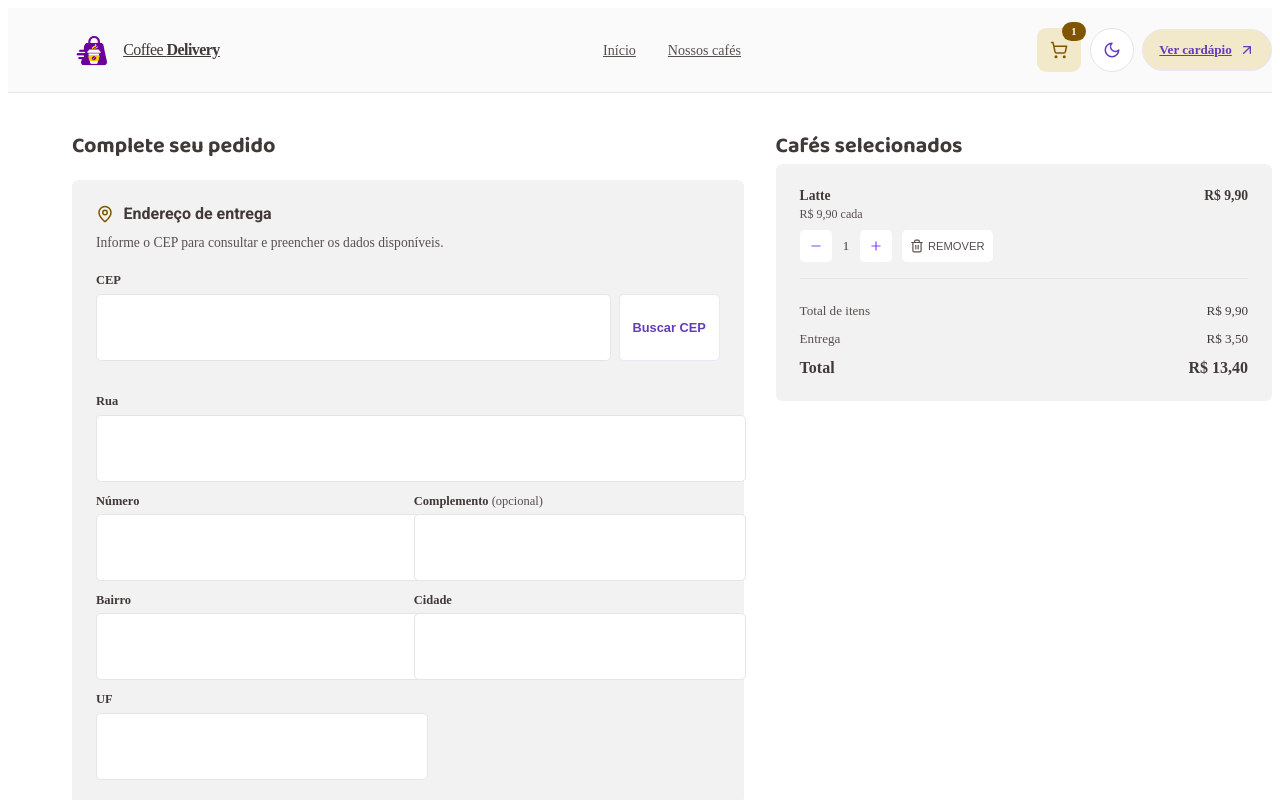
Test: CheckoutPage › shows invalid and not-found CEP feedback and permits a new query
Type "123" into the field labelled "CEP" at (353, 327), box [96,294,611,361]
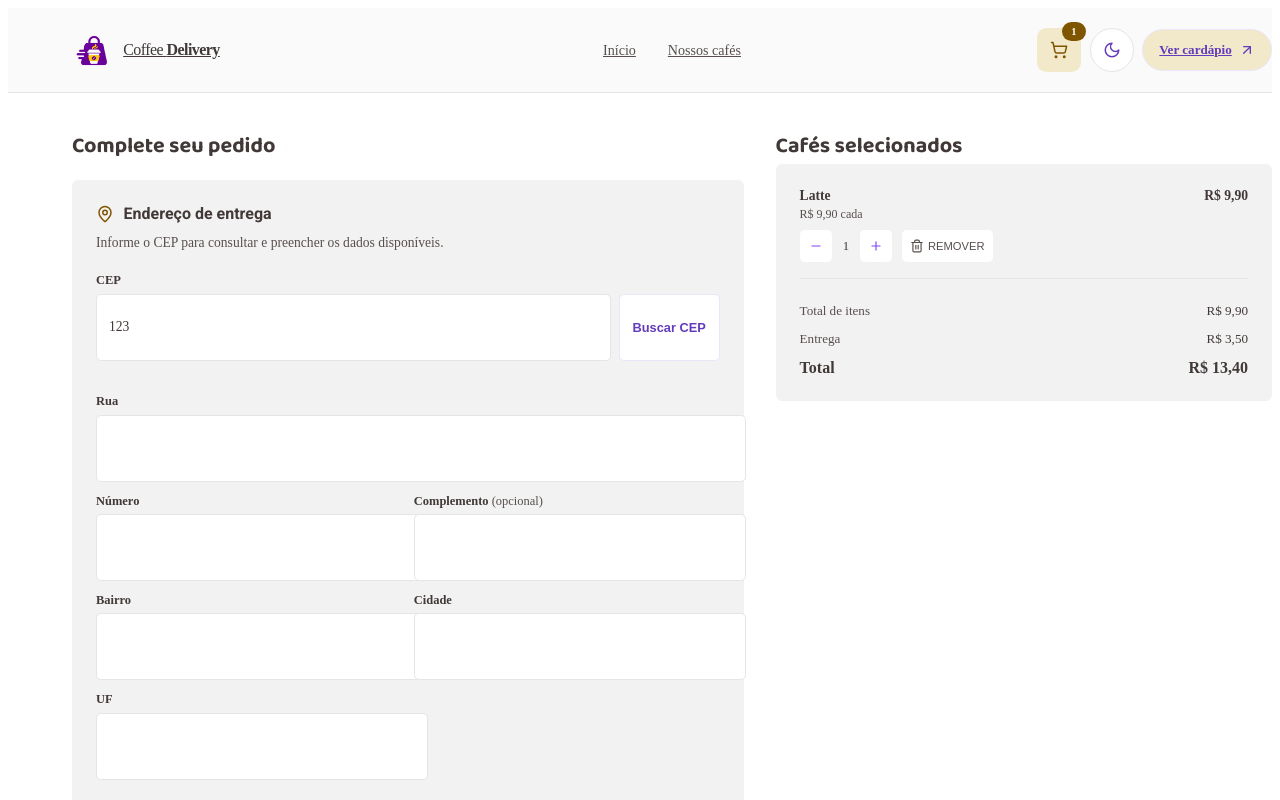
Click the button "Buscar CEP" at (669, 327), box [619,294,720,361]
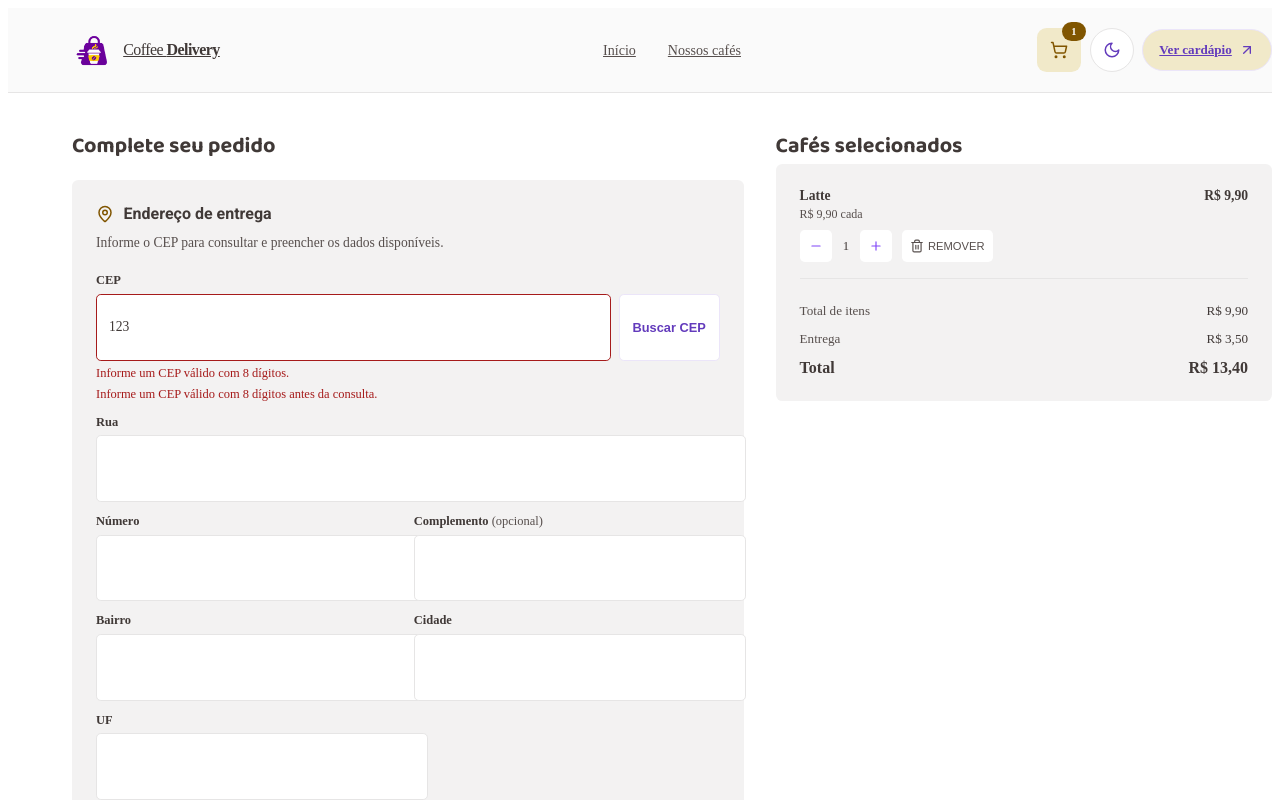
expect the text "Informe um CEP válido com 8 dígitos antes da consulta." is shown: met, box [96,387,377,401]
Replace the text in the field labelled "CEP" with "99999999" at (353, 327), box [96,294,611,361]
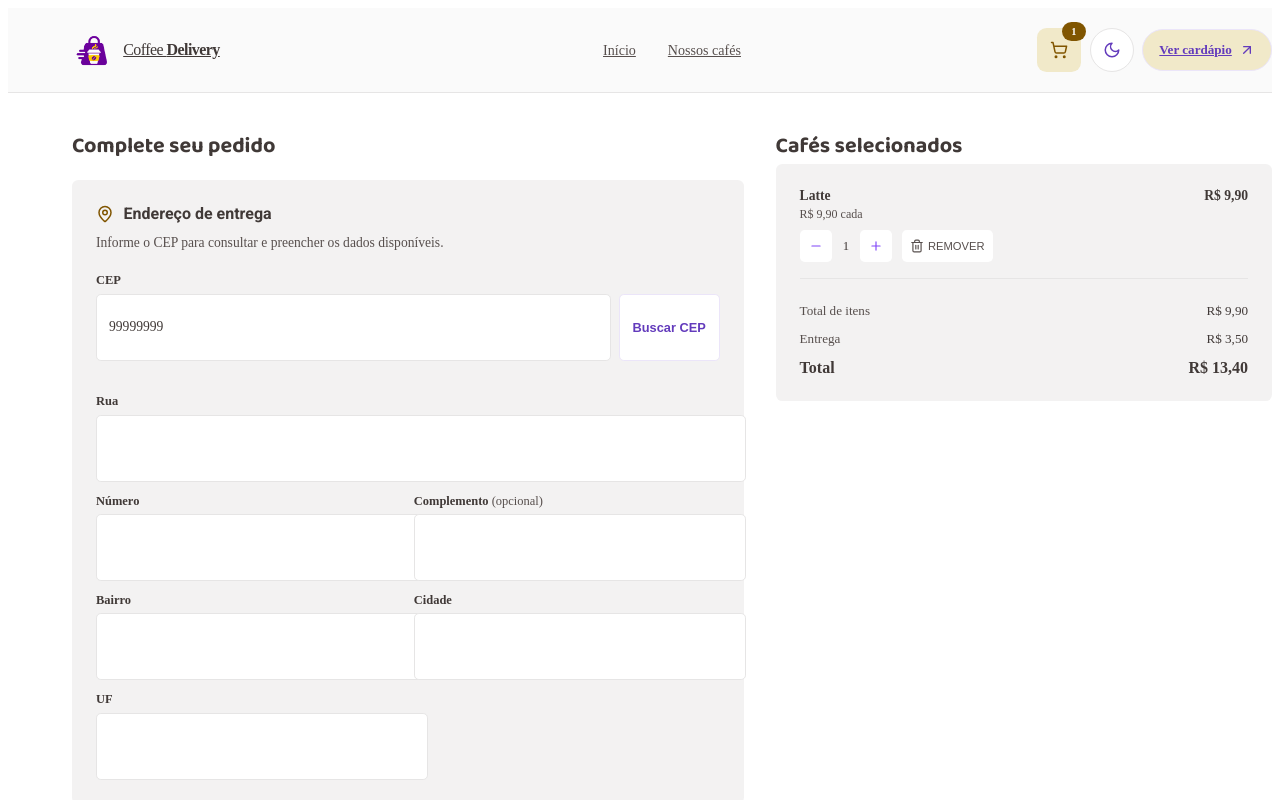
Click the button "Buscar CEP" at (669, 327), box [619,294,720,361]
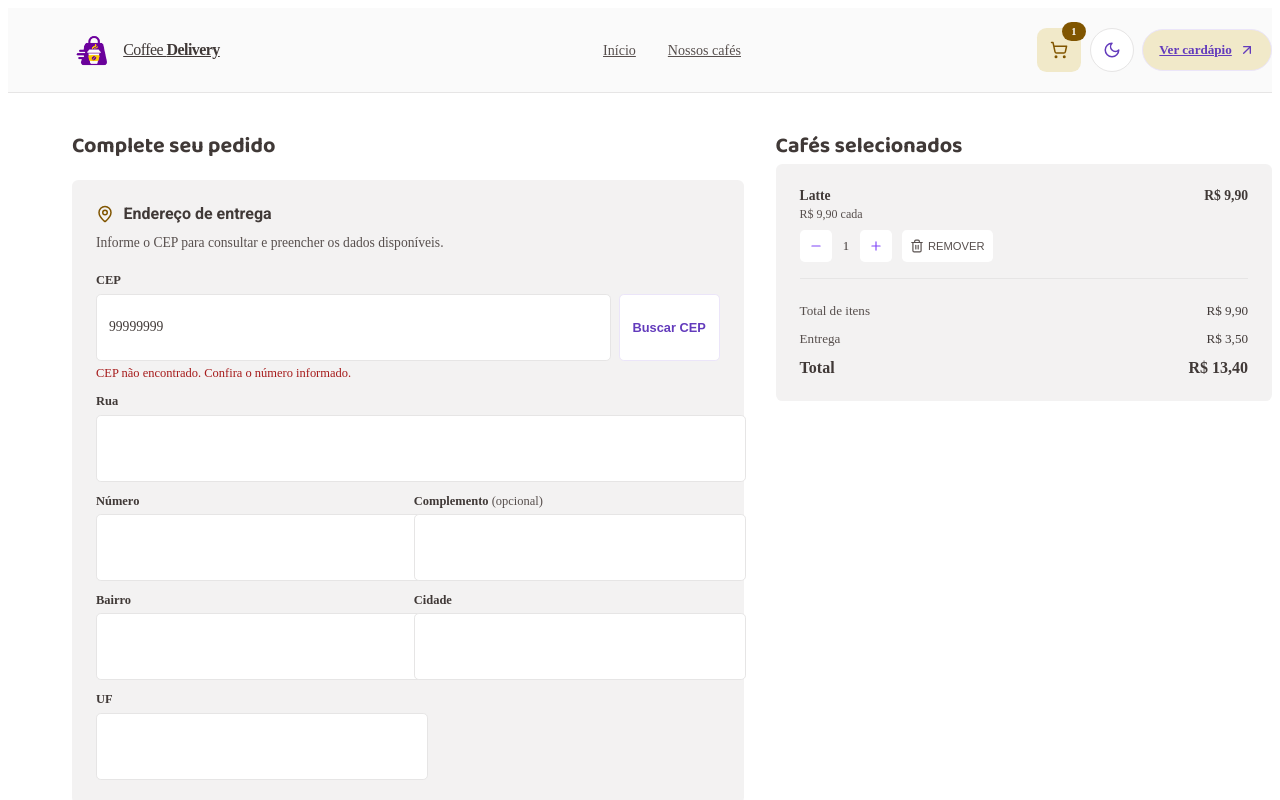
expect the text "CEP não encontrado. Confira o número informado." is shown: met, box [96,366,351,380]
